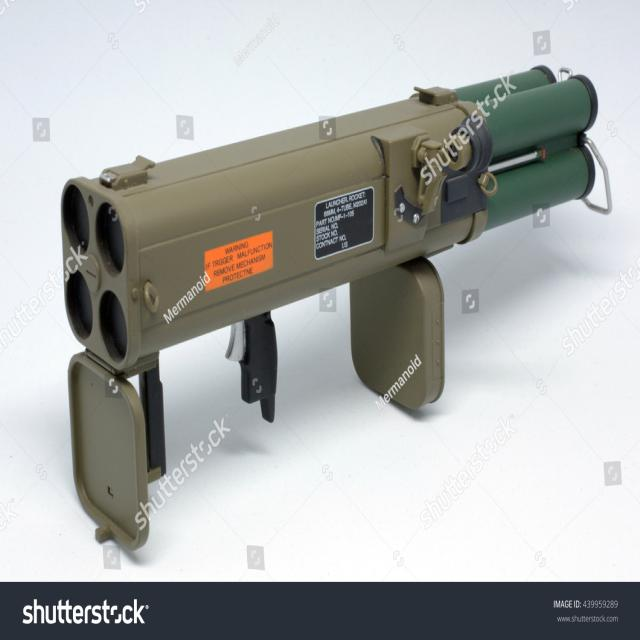bazooka: (48, 29, 639, 589)
